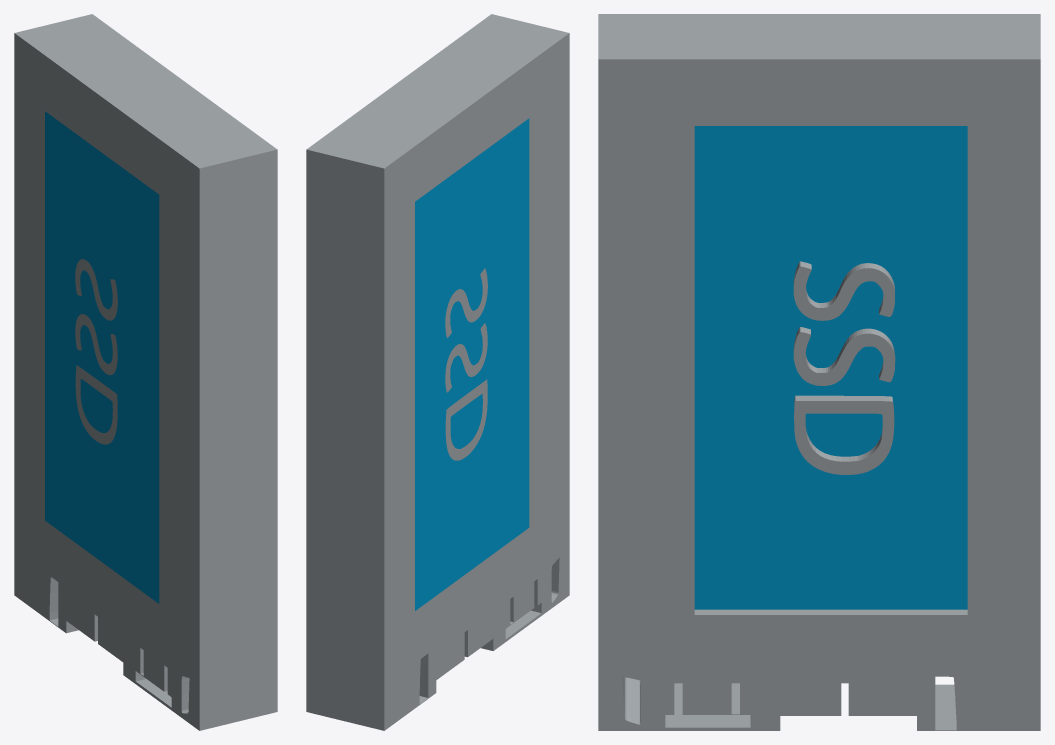
The model's file is ssd.fbx.
3 renders of one model, left to right at view 1: azimuth 30°, elevation 25°; view 2: azimuth 150°, elevation 25°; view 3: azimuth 270°, elevation 25°, orthographic. The views are drawn at different scales.
Parts seen in each view (by area): view 1: obj_0; view 2: obj_0; view 3: obj_0.
Part boxes in pixels (x1,y1,x2,y2): obj_0: (14, 14, 277, 730); obj_0: (306, 14, 569, 730); obj_0: (598, 14, 1040, 730).
Bounding box in the file's own units: 0.2286 × 1.57 × 0.9398.
